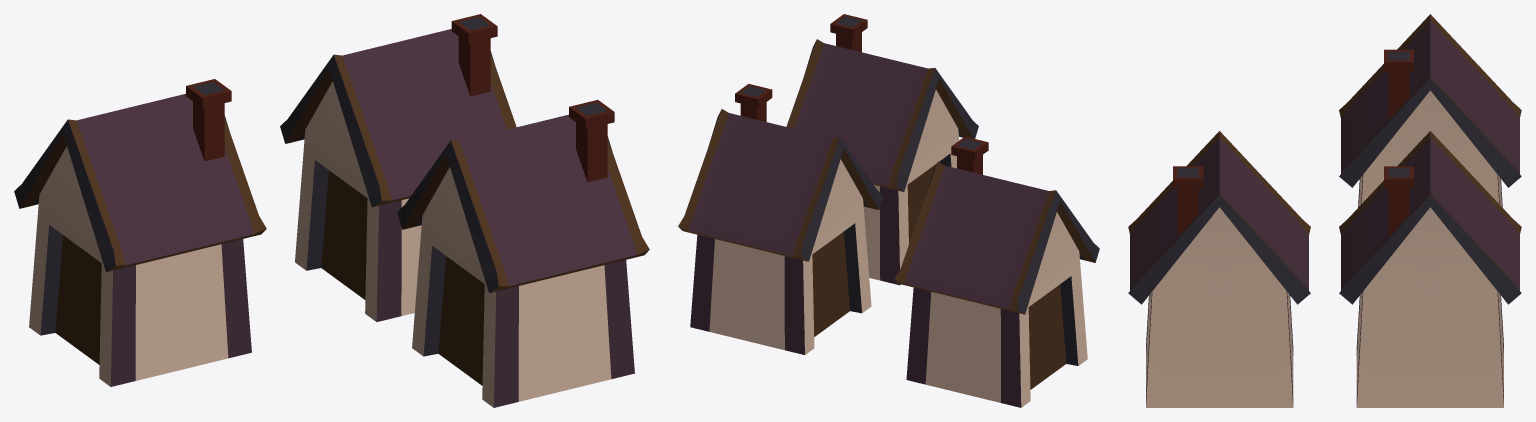
File: Dwelling_002.fbx
The picture shows the model from 3 angles, left to right: view 1: azimuth 30°, elevation 25°; view 2: azimuth 150°, elevation 25°; view 3: azimuth 270°, elevation 25°; orthographic projection. The views are drawn at different scales.
Visible parts, largest first — view 1: Dwelling_002; view 2: Dwelling_002; view 3: Dwelling_002.
Boxes of the visible parts, <box> form: Dwelling_002: <box>14,14,649,407</box>; Dwelling_002: <box>678,14,1099,407</box>; Dwelling_002: <box>1128,14,1521,407</box>.
Bounding box in the file's own units: 561 × 321 × 504.
